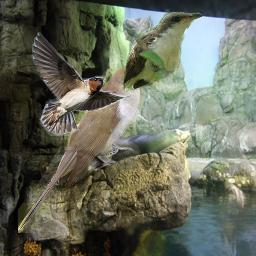Cuckoo: (18, 66, 161, 233), (121, 11, 202, 92)
Swallow: (31, 32, 133, 136)
